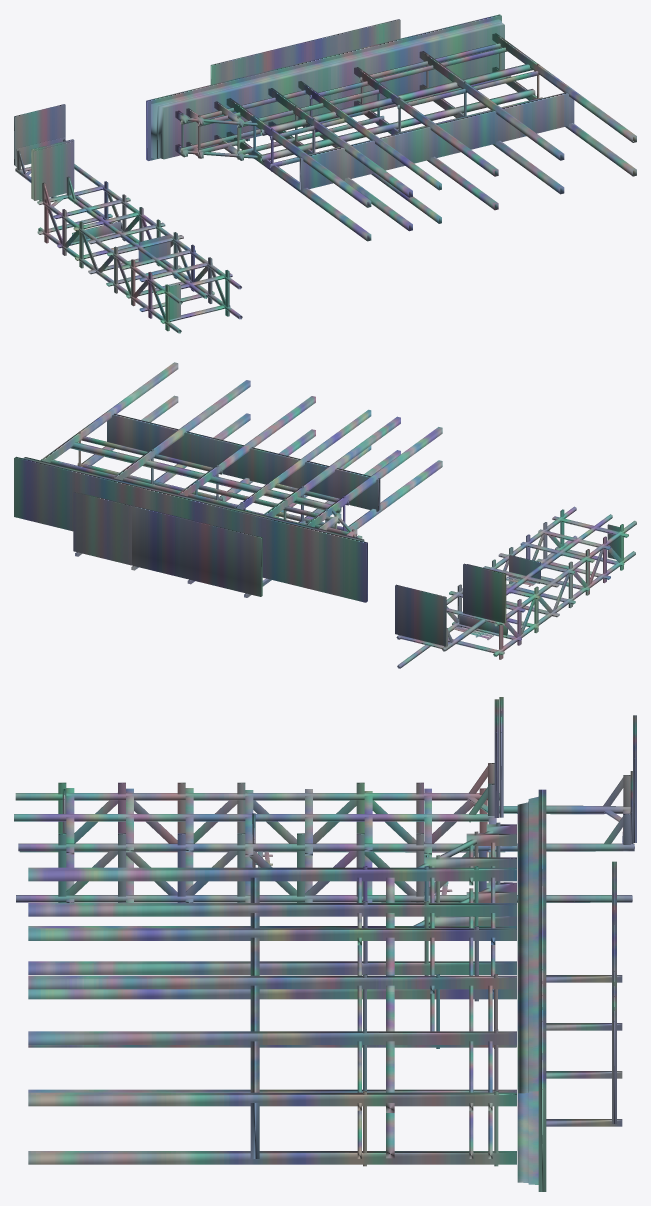
File: transition_temporary.dae
The picture shows the model from 3 angles, top to bottom: view 1: azimuth 30°, elevation 25°; view 2: azimuth 150°, elevation 25°; view 3: azimuth 270°, elevation 25°; orthographic projection. The views are drawn at different scales.
Visible parts, largest first — view 1: SF_SuzakuShape; view 2: SF_SuzakuShape; view 3: SF_SuzakuShape.
Part boxes in pixels (<box>): SF_SuzakuShape: <box>14,14,636,333</box>; SF_SuzakuShape: <box>14,362,636,668</box>; SF_SuzakuShape: <box>14,697,636,1191</box>.
Size of the model in its own units: 340 by 219 by 67.34.
Materials: 1 (1 with a texture image).
